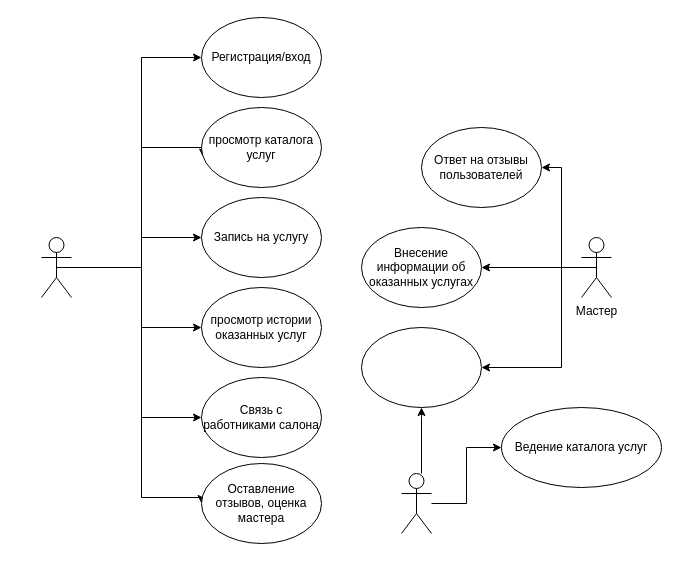
Some shapes in this 679 by 572 pixel diagram are drawn without their labels. Here are the shapes that lost their labels. From the top down, the centre of each, then its label:
At (x=56, y=267): "Пользователь".
At (x=421, y=367): "Связь с клиентом/ связь между работниками".
At (x=416, y=503): "Администратор сайта".
